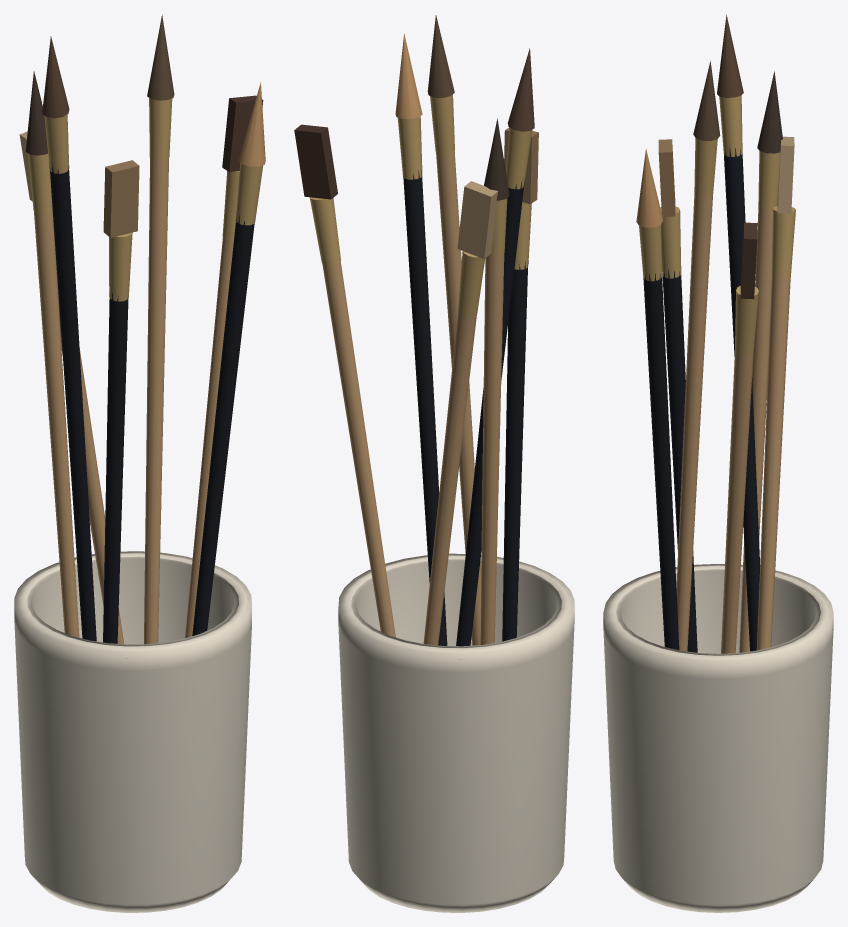
Rendered from atelier-artist-brushes-oak.glb.
3 renders of one model, left to right at view 1: azimuth 30°, elevation 25°; view 2: azimuth 150°, elevation 25°; view 3: azimuth 270°, elevation 25°, orthographic. The views are drawn at different scales.
Bounding box in the file's own units: 0.0812 × 0.269 × 0.068.
